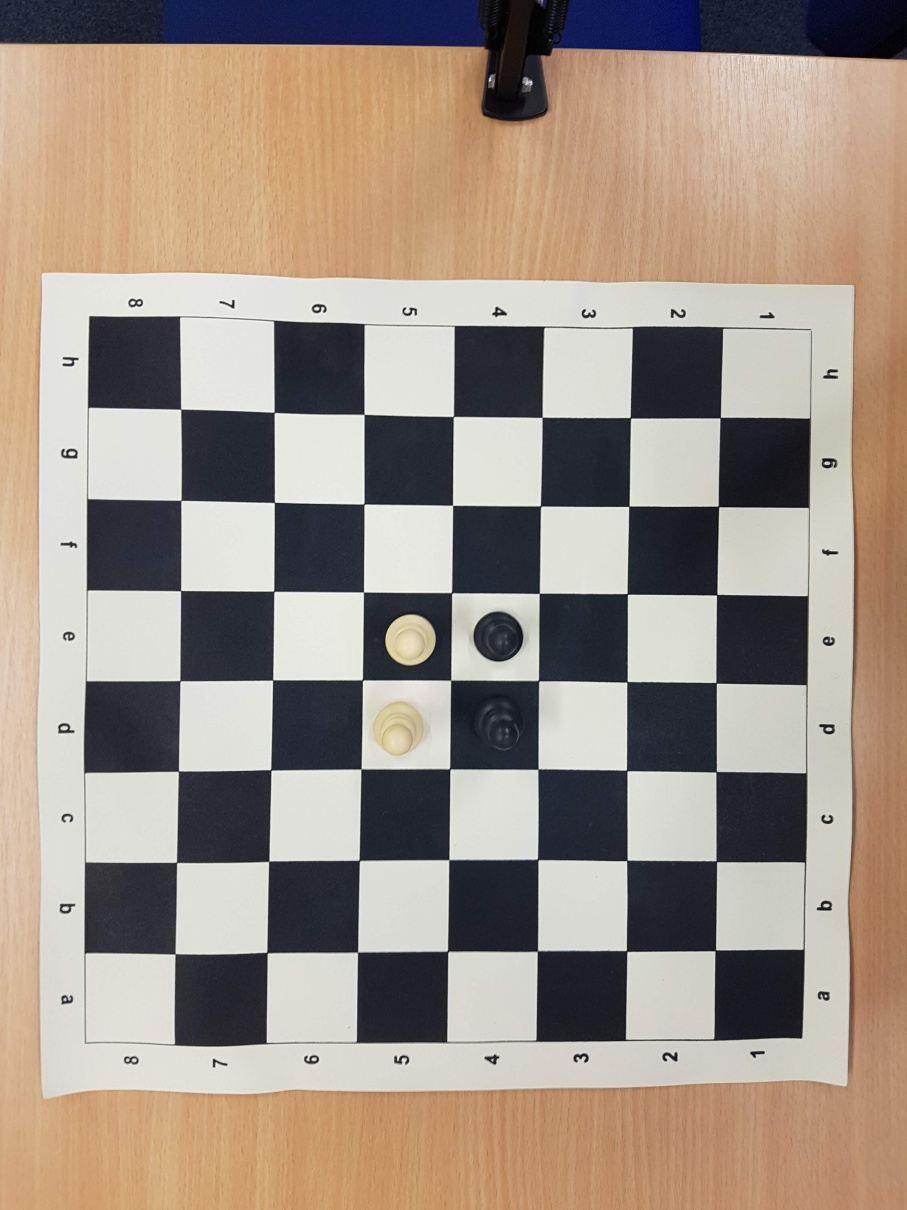chess_pawn: (384, 613, 437, 668), (471, 611, 525, 664), (373, 702, 423, 755), (473, 697, 521, 752)
